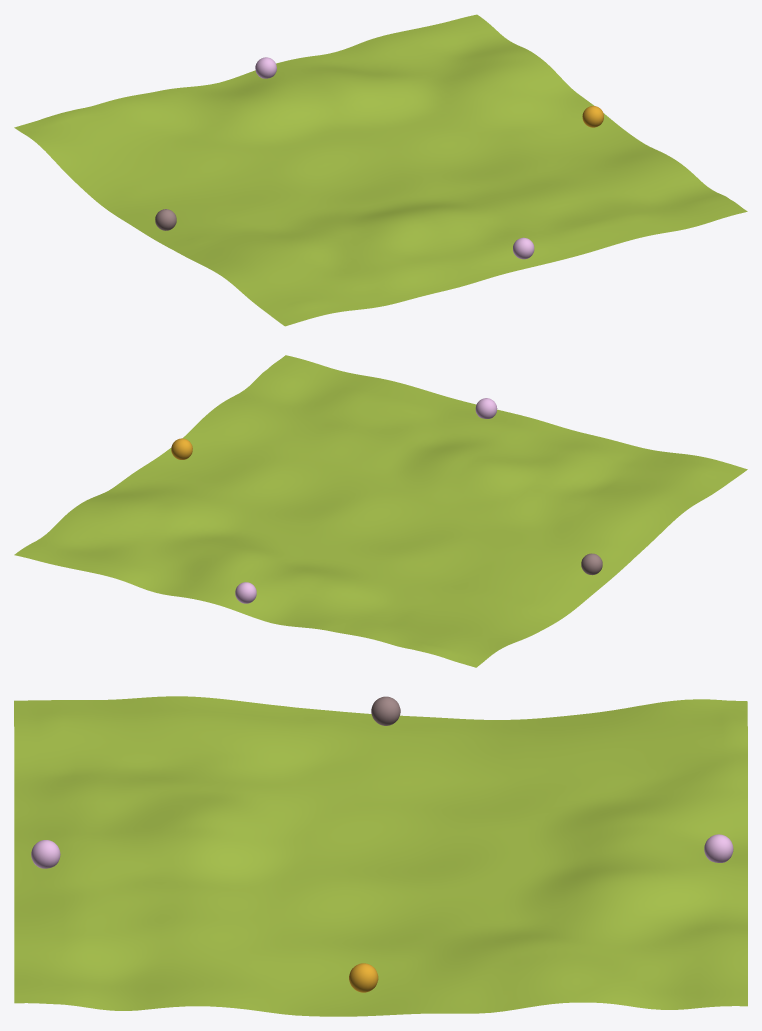
The model's file is marqueurs_carre11.fbx.
The picture shows the model from 3 angles, top to bottom: view 1: azimuth 30°, elevation 25°; view 2: azimuth 150°, elevation 25°; view 3: azimuth 270°, elevation 25°; orthographic projection. The views are drawn at different scales.
Parts seen in each view (by area): view 1: carre11; view 2: carre11; view 3: carre11, pSphere79, pSphere81, pSphere82, pSphere80.
Part boxes in pixels (x1=…): carre11: x1=14, y1=14, x2=747, y2=326; carre11: x1=14, y1=355, x2=747, y2=667; carre11: x1=14, y1=696, x2=747, y2=1016; pSphere79: x1=371, y1=696, x2=400, y2=725; pSphere81: x1=349, y1=963, x2=378, y2=992; pSphere82: x1=31, y1=840, x2=60, y2=868; pSphere80: x1=704, y1=834, x2=733, y2=862.
Size of the model in its own units: 710 by 47 by 721.
